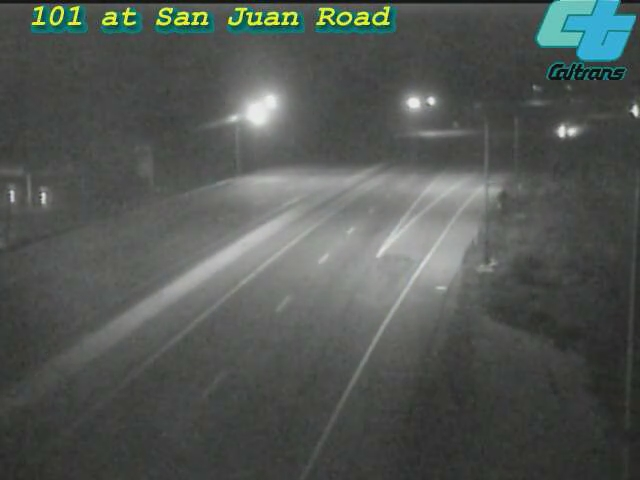vehicle: (540, 107, 590, 157), (611, 86, 640, 136)
